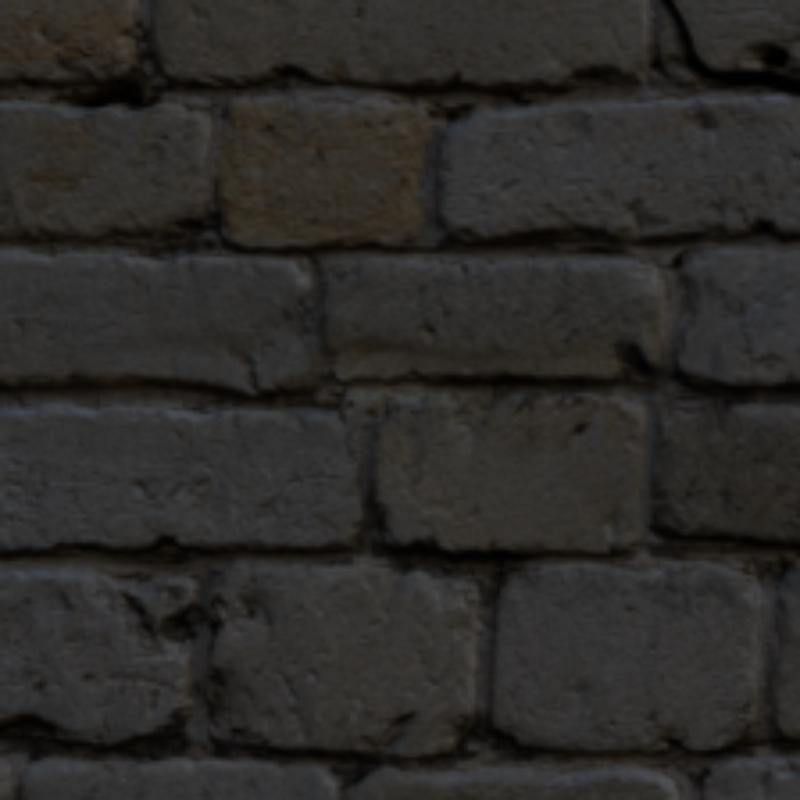pothole: (661, 0, 796, 93)
